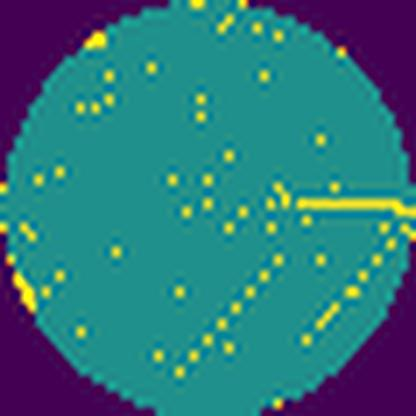Scratch: (172, 250, 289, 383), (298, 231, 400, 355), (290, 190, 416, 224)
